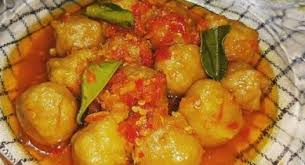bakso: (30, 14, 254, 155)
